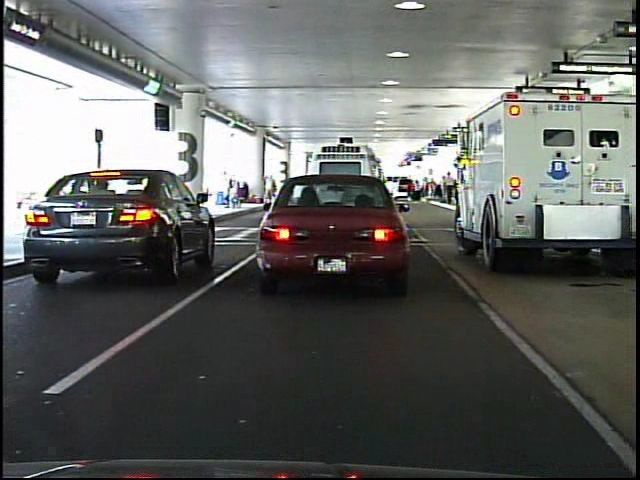person: (261, 171, 278, 208)
